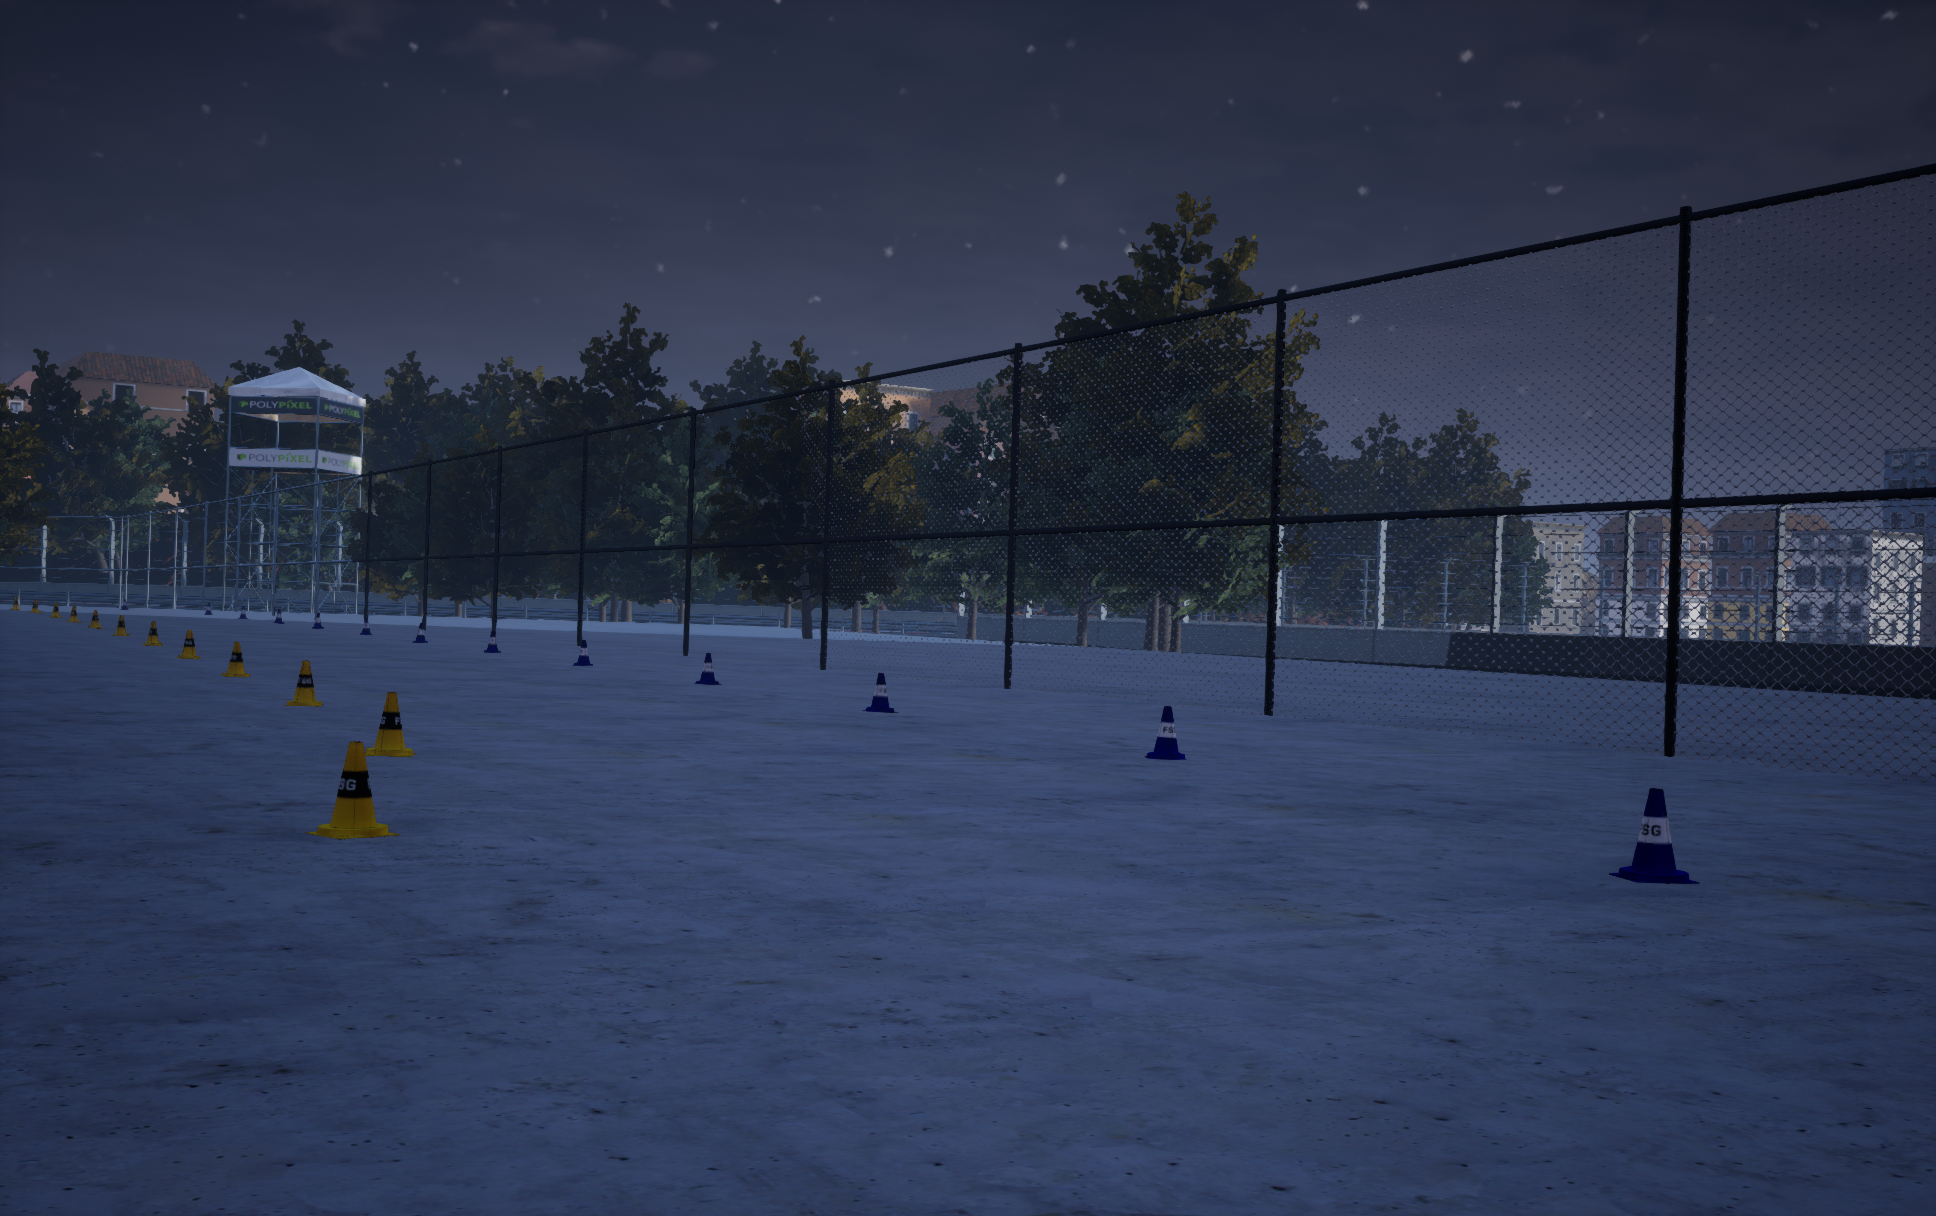blue: (305, 741, 399, 839), (366, 692, 415, 756), (284, 660, 324, 706), (221, 642, 249, 677), (177, 630, 200, 658), (143, 621, 163, 644), (112, 615, 129, 635)
yellow: (1610, 787, 1699, 883), (1145, 706, 1187, 759), (862, 672, 898, 712), (693, 653, 721, 684), (572, 640, 593, 665), (485, 630, 500, 651), (412, 623, 427, 642)
